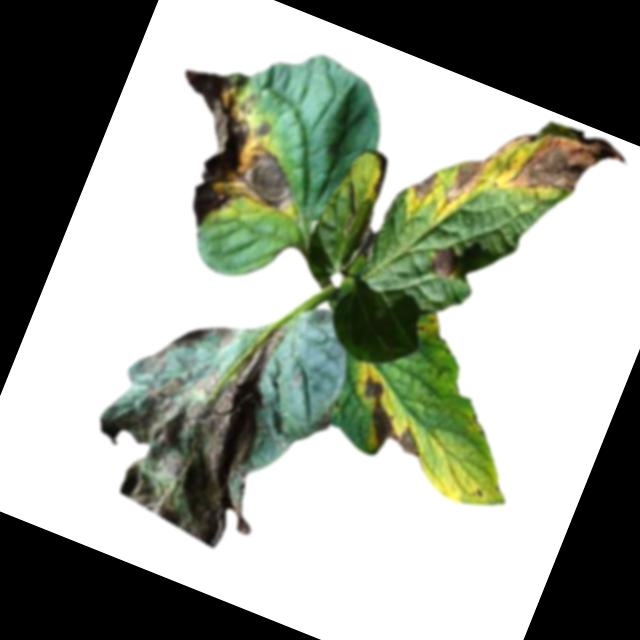Early_blight: (68, 271, 328, 559), (129, 53, 328, 256), (438, 93, 634, 261), (341, 373, 440, 469), (427, 240, 462, 279), (411, 166, 440, 200), (315, 406, 337, 434)
